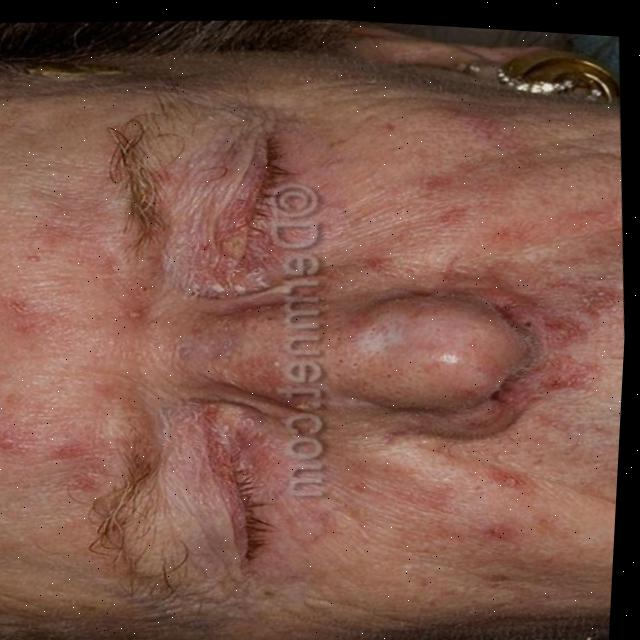Rosacea: (293, 128, 616, 552), (0, 201, 133, 480)
